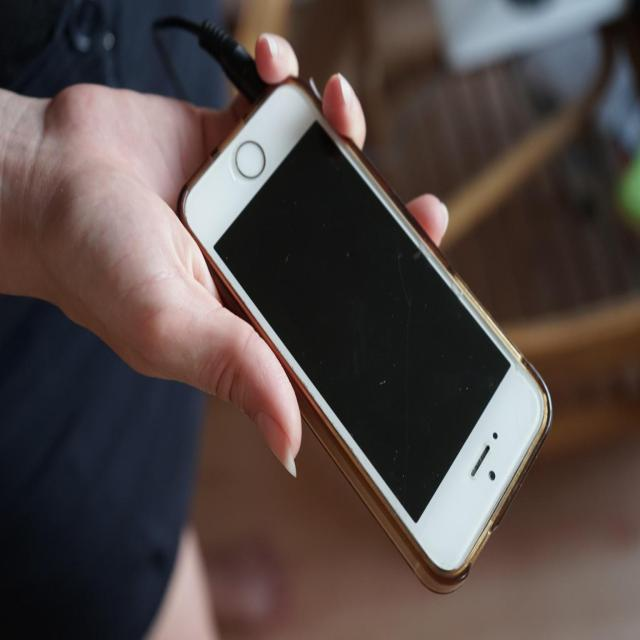Phone: (176, 75, 553, 596)
